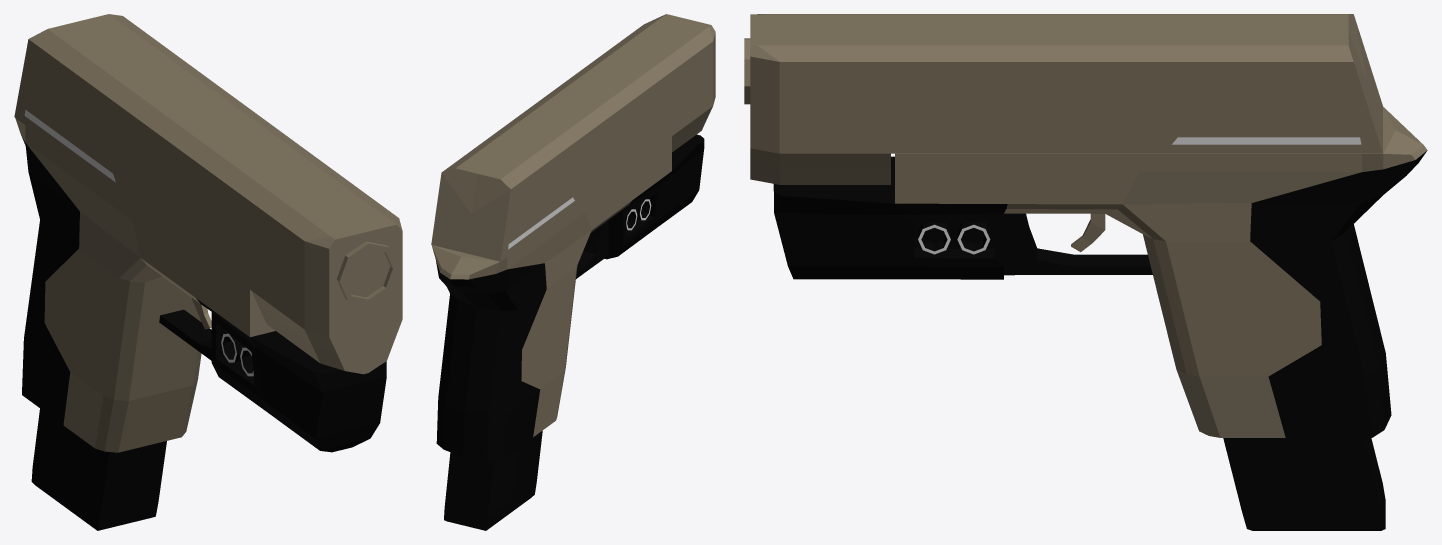
The model's file is pistol_upgraded.fbx.
3 views of the same model, side by side, from view 1: azimuth 30°, elevation 25°; view 2: azimuth 150°, elevation 25°; view 3: azimuth 270°, elevation 25° (orthographic). The views are drawn at different scales.
Parts seen in each view (by area): view 1: Slide.001, Body.001, Magazine.001, EnergyBatteries; view 2: Body.001, Slide.001, Magazine.001, EnergyBatteries; view 3: Body.001, Slide.001, Magazine.001, EnergyBatteries.
Boxes of the visible parts, bbox=[...] form: Slide.001: bbox=[14, 14, 402, 374]; Body.001: bbox=[15, 118, 386, 452]; Magazine.001: bbox=[31, 408, 166, 530]; EnergyBatteries: bbox=[221, 333, 253, 376]; Body.001: bbox=[431, 134, 704, 460]; Slide.001: bbox=[431, 14, 715, 261]; Magazine.001: bbox=[444, 431, 542, 530]; EnergyBatteries: bbox=[626, 198, 651, 230]; Body.001: bbox=[773, 106, 1427, 437]; Slide.001: bbox=[744, 14, 1382, 184]; Magazine.001: bbox=[1223, 438, 1385, 530]; EnergyBatteries: bbox=[918, 222, 990, 254].
Size of the model in its own units: 0.3335 by 1.58 by 2.01.
